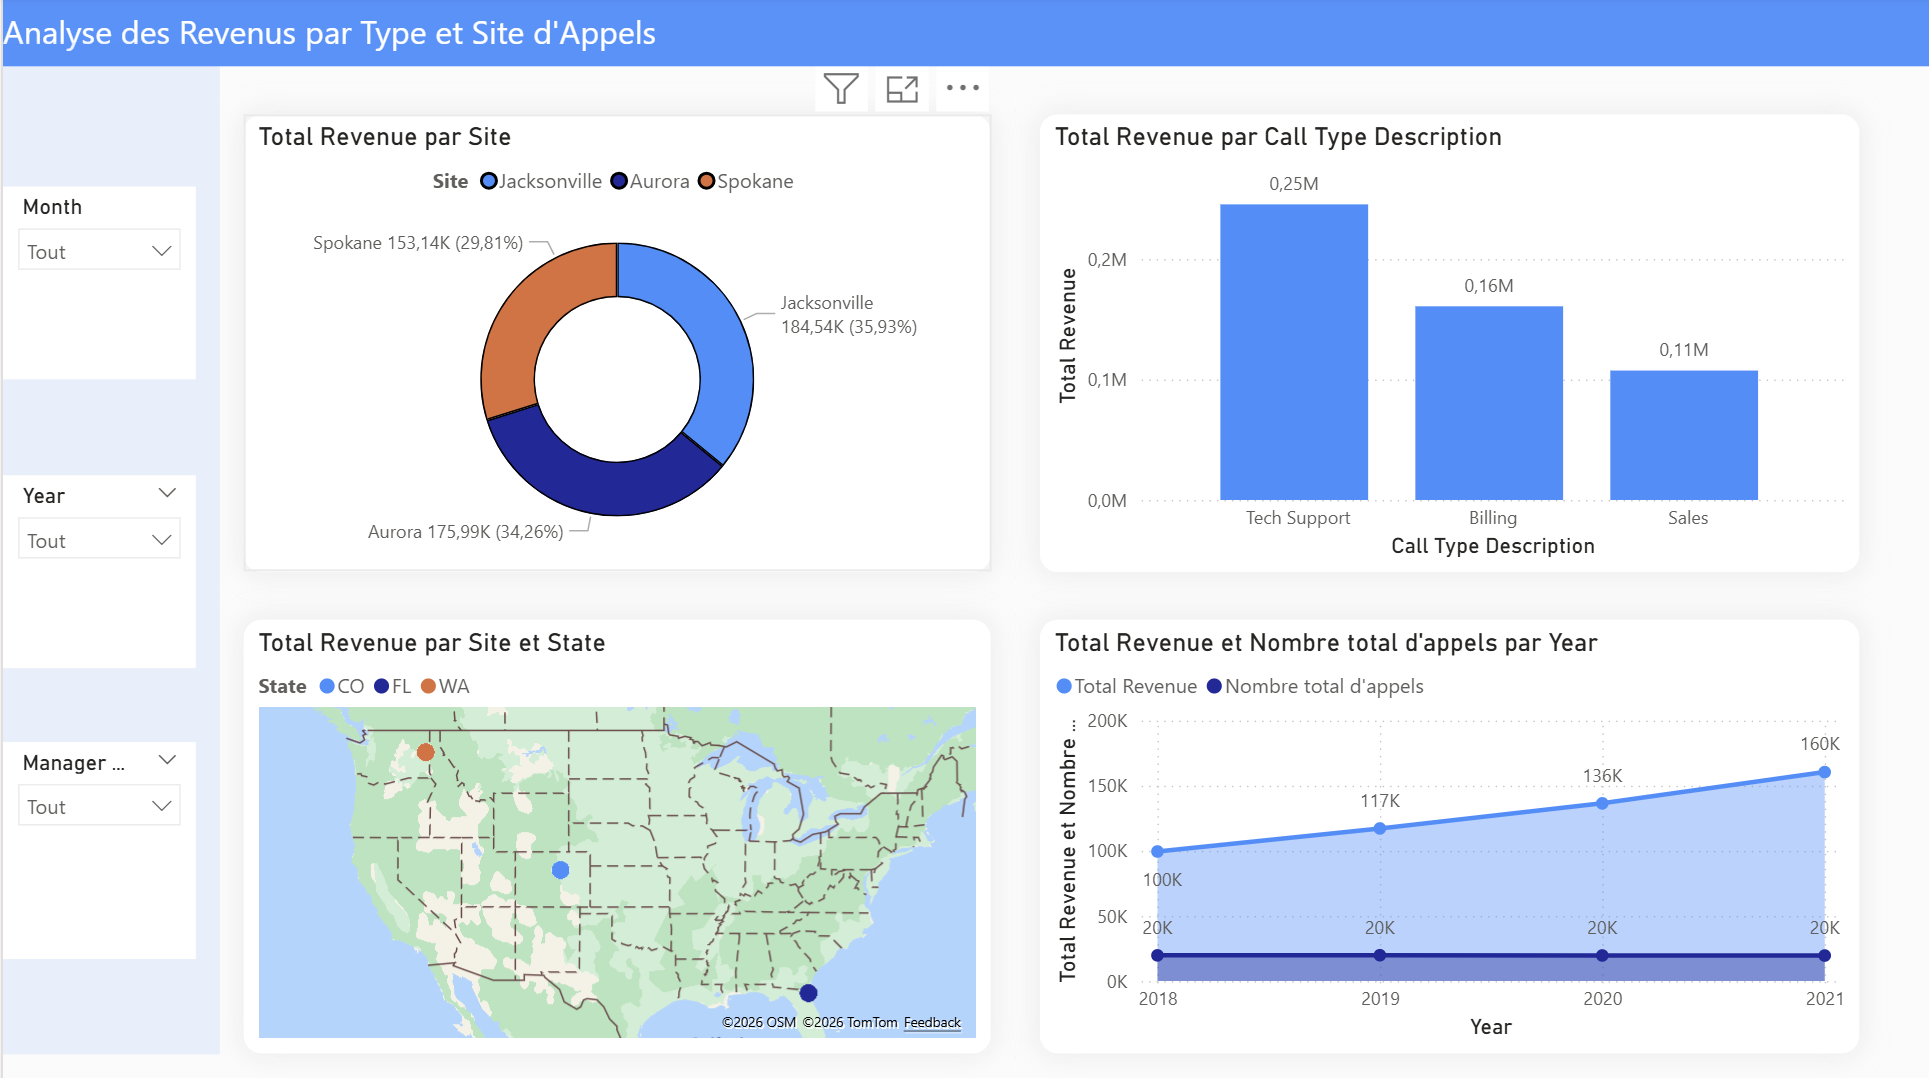

This screenshot's page, from the dashboard's own definition file:
{"tool":"powerbi","page":{"name":"Vue sur le Revenu par appel","canvas":[1280,720],"ordinal":2},"visuals":[{"type":"map","fields":{"Category":["Employees.Site"],"Series":["Employees.State"]},"box":[160,416,496,288],"z":0},{"type":"donutChart","fields":{"Y":["Model Measures.Total Revenu"],"Category":["Employees.Site"]},"box":[160,80,496,304],"z":1000},{"type":"clusteredColumnChart","fields":{"Category":["Call Type Charges.Call Type Description"],"Y":["Model Measures.Total Revenu"]},"box":[688,80,544,304],"z":2000},{"type":"areaChart","fields":{"Y":["Model Measures.Total Revenue","Model Measures.Nombre total d'appels"],"Category":["Calendar.Year"]},"box":[688,416,544,288],"z":3000},{"type":"shape","box":[0,0,1280,48],"z":4000},{"type":"shape","box":[0,32,144,672],"z":5000},{"type":"slicer","fields":{"Values":["Calendar.Month"]},"box":[0,128,128,128],"z":5001},{"type":"slicer","fields":{"Values":["Call Data All Years.Year"]},"box":[0,320,128,128],"z":5002},{"type":"slicer","fields":{"Values":["Employees.Manager Name"]},"box":[0,496,128,144],"z":5003}]}

Visuals, with their boxes in screenshot pixels (x1, y1, x2, y2), scaled from the page's 1280x720 canvas onto the 1929x1078 screenshot:
map - Employees.Site x Employees.State: [241, 623, 989, 1054]
donutChart - Model Measures.Total Revenu x Employees.Site: [241, 120, 989, 575]
clusteredColumnChart - Call Type Charges.Call Type Description x Model Measures.Total Revenu: [1037, 120, 1857, 575]
areaChart - Model Measures.Total Revenue x Model Measures.Nombre total d'appels: [1037, 623, 1857, 1054]
shape: [0, 0, 1928, 72]
shape: [0, 48, 217, 1054]
slicer - Calendar.Month: [0, 192, 193, 383]
slicer - Call Data All Years.Year: [0, 479, 193, 671]
slicer - Employees.Manager Name: [0, 743, 193, 958]
